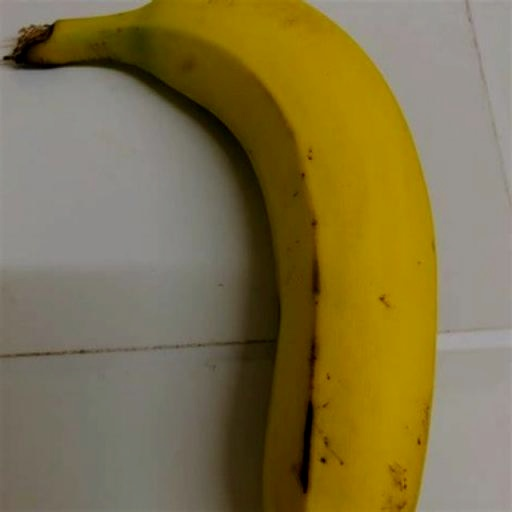fruit: (204, 0, 400, 4)
